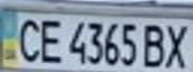3: (84, 18, 106, 65)
4: (63, 17, 87, 65)
5: (118, 19, 145, 69)
6: (103, 19, 124, 66)
B: (139, 20, 172, 69)
C: (9, 15, 45, 64)
E: (33, 15, 66, 64)
X: (160, 20, 193, 70)
